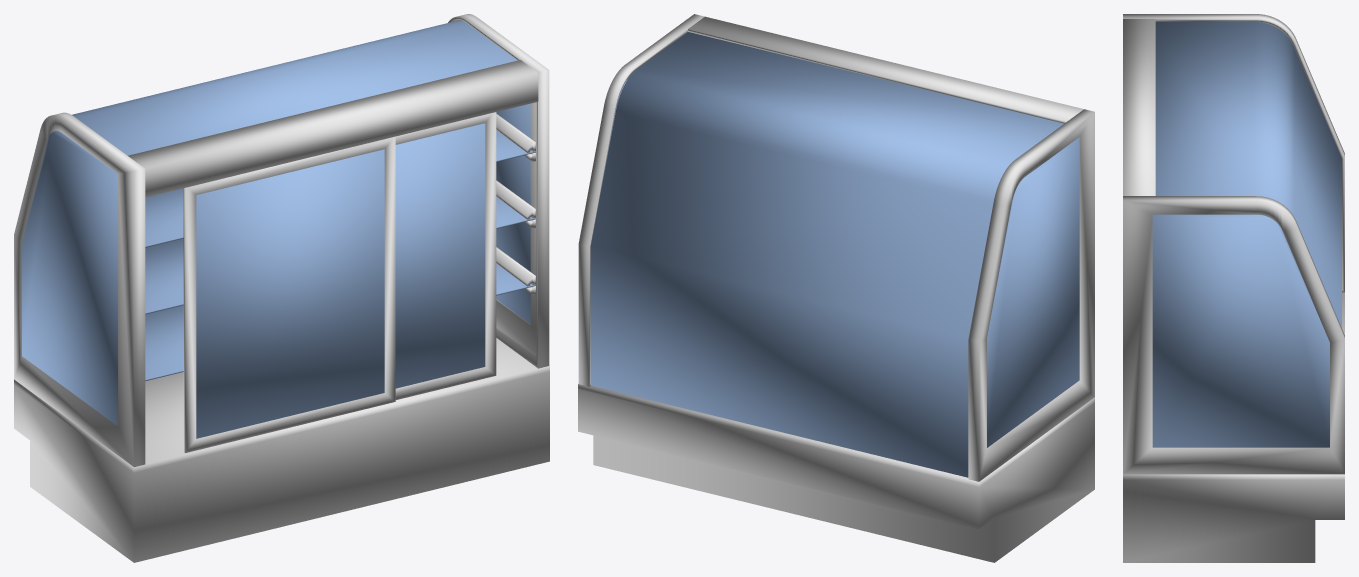
The model's file is cake_display.fbx.
3 views of the same model, side by side, from view 1: azimuth 30°, elevation 25°; view 2: azimuth 150°, elevation 25°; view 3: azimuth 270°, elevation 25° (orthographic). The views are drawn at different scales.
Parts seen in each view (by area): view 1: back, bottom, side, front.001, top, side.001, display.001, display, display.002; view 2: front.001, bottom, side, top, side.001; view 3: side.001, front.001, bottom, top, side.
Part boxes in pixels (bbox=[...]): back: bbox=[183, 112, 496, 452]; bottom: bbox=[14, 338, 549, 562]; side: bbox=[14, 112, 145, 467]; front.001: bbox=[72, 20, 517, 155]; top: bbox=[128, 60, 538, 197]; side.001: bbox=[448, 14, 549, 368]; display.001: bbox=[145, 180, 535, 314]; display: bbox=[145, 247, 535, 380]; display.002: bbox=[145, 113, 535, 247]; front.001: bbox=[590, 32, 1063, 477]; bottom: bbox=[578, 384, 1094, 562]; side: bbox=[968, 109, 1094, 481]; top: bbox=[688, 16, 1083, 123]; side.001: bbox=[578, 14, 704, 386]; side.001: bbox=[1123, 196, 1344, 474]; front.001: bbox=[1155, 21, 1341, 327]; bottom: bbox=[1123, 292, 1344, 562]; top: bbox=[1123, 19, 1155, 195]; side: bbox=[1123, 14, 1344, 292].
Bounding box in the file's own units: 5.08 × 4.57 × 2.54.
